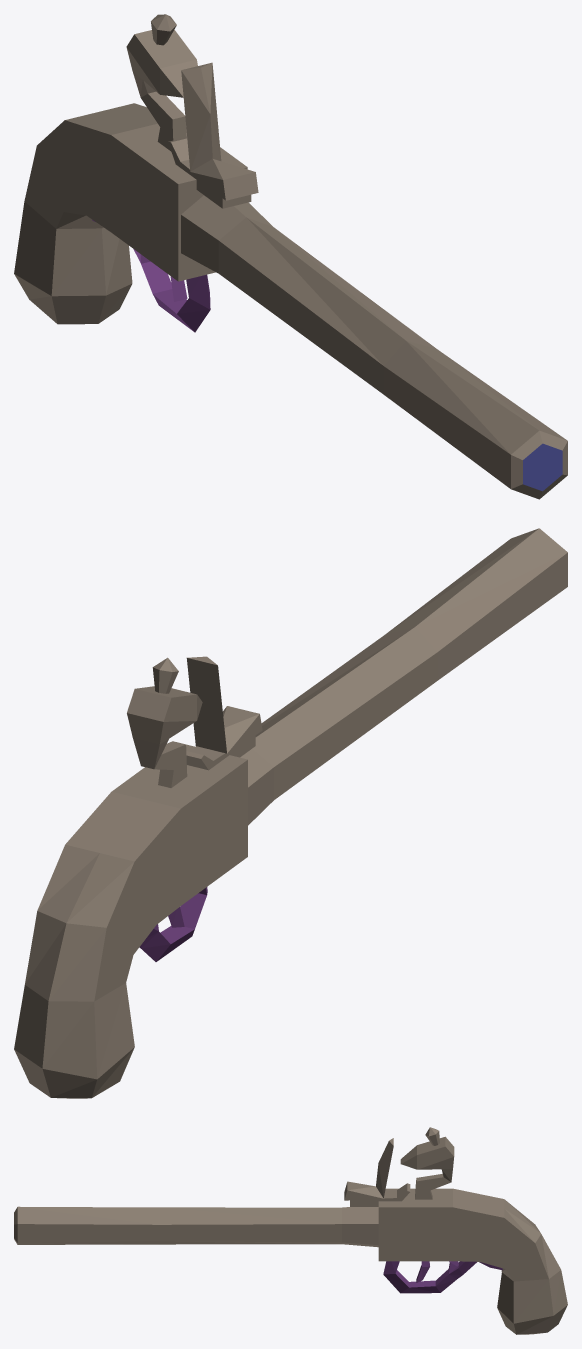
File: SM_Wep_Pistol_01.glb
3 views of the same model, one above another, from view 1: azimuth 30°, elevation 25°; view 2: azimuth 150°, elevation 25°; view 3: azimuth 270°, elevation 25° (orthographic). The views are drawn at different scales.
Visible parts, largest first — view 1: SM_Wep_Pistol_01_00; view 2: SM_Wep_Pistol_01_00; view 3: SM_Wep_Pistol_01_00.
Part boxes in pixels (left/top/right/bottom): SM_Wep_Pistol_01_00: left=14, top=14, right=567, bottom=499; SM_Wep_Pistol_01_00: left=14, top=528, right=567, bottom=1098; SM_Wep_Pistol_01_00: left=14, top=1127, right=567, bottom=1334.
Size of the model in its own units: 0.0499 by 0.2149 by 0.521.
1 material, 1 textured.
